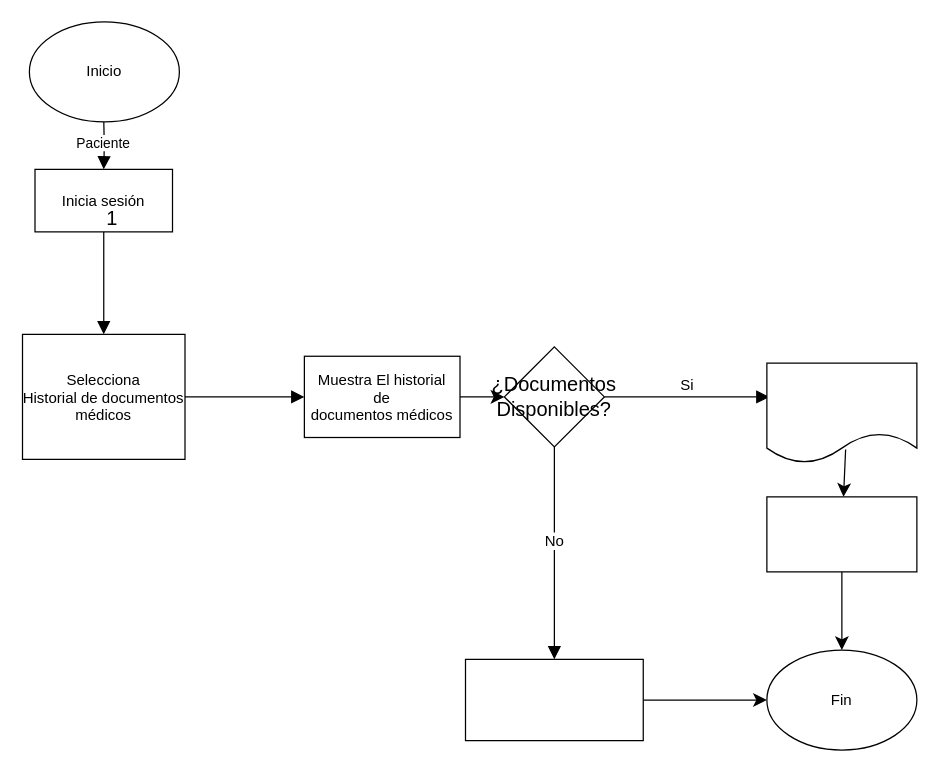
Some shapes in this 939 by 773 pixel diagram are drawn without their labels. Here are the shapes that lost their labels. From the top down, the centre of each, then its label:
At [841,412]: "Mostrar Historial de documentos".
At [841,534]: "Descargar documento".
At [553,699]: "Mostrar mensaje de error".
